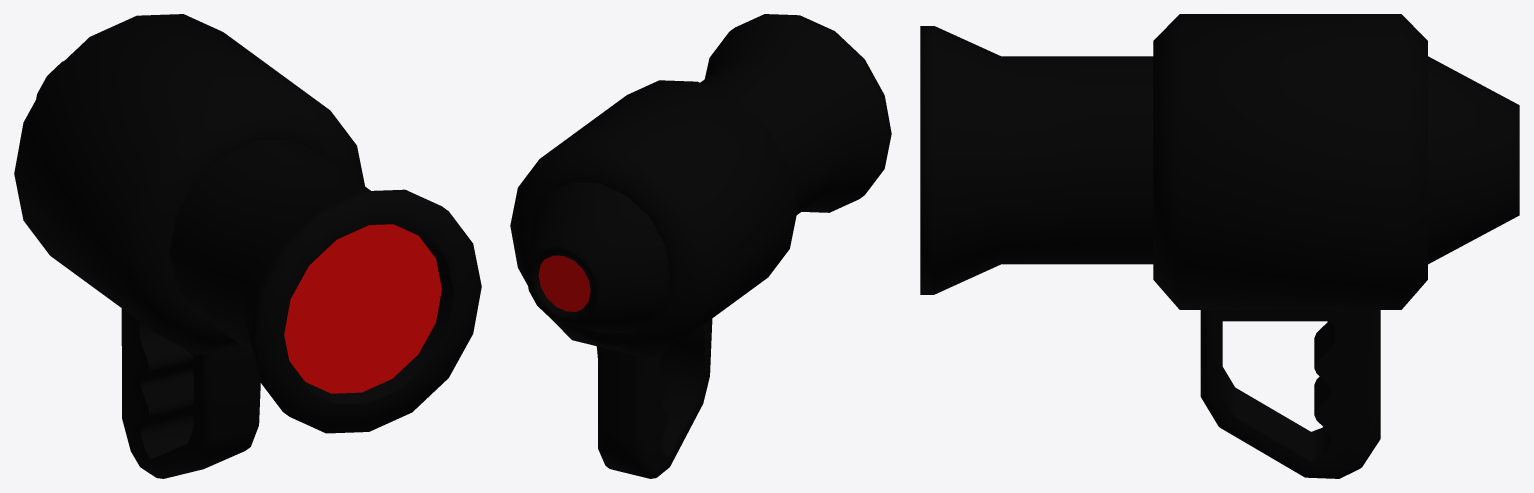
Rendered from WaterGun.glb.
3 views of the same model, side by side, from view 1: azimuth 30°, elevation 25°; view 2: azimuth 150°, elevation 25°; view 3: azimuth 270°, elevation 25° (orthographic). The views are drawn at different scales.
Visible parts, largest first — view 1: Muzzle; view 2: Muzzle; view 3: Muzzle.
Boxes of the visible parts, bbox=[...] form: Muzzle: bbox=[14, 14, 481, 478]; Muzzle: bbox=[510, 14, 891, 478]; Muzzle: bbox=[920, 14, 1519, 478].
Size of the model in its own units: 0.1523 by 0.2526 by 0.3118.
